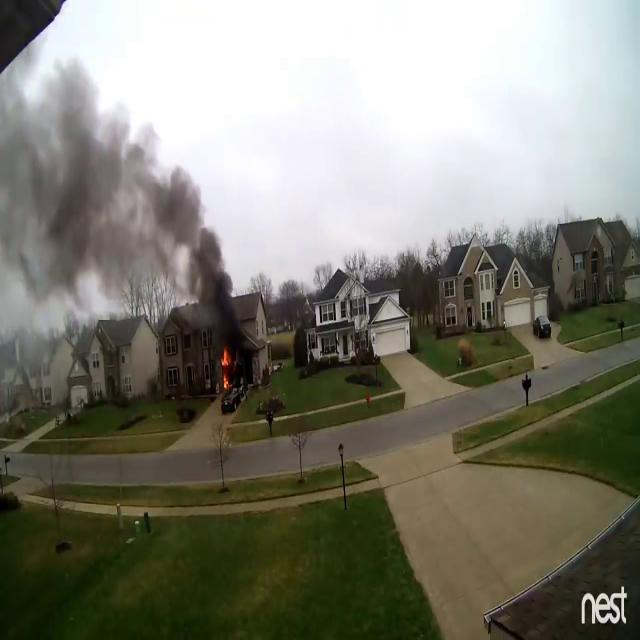Fire: (221, 345, 233, 398)
Smoke: (2, 46, 248, 364)
